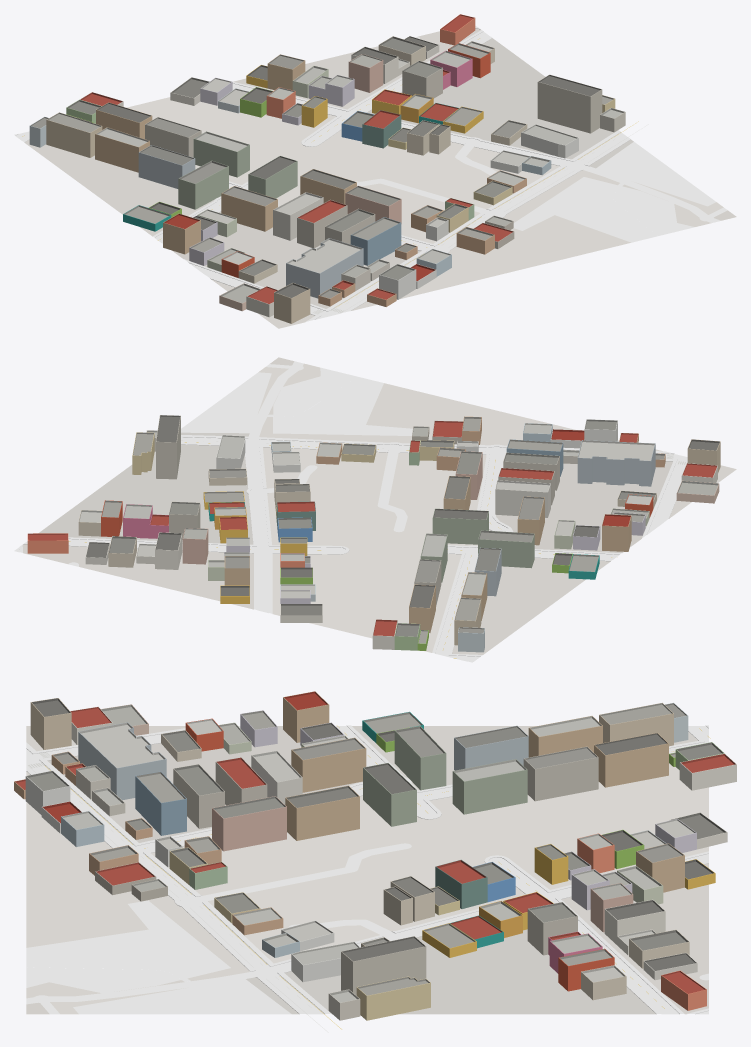
3 views of the same model, one above another, from view 1: azimuth 30°, elevation 25°; view 2: azimuth 150°, elevation 25°; view 3: azimuth 270°, elevation 25° (orthographic). The views are drawn at different scales.
Parts seen in each view (by area): view 1: walls, ground, roofs, grass, asphalt, sidewalk; view 2: ground, roofs, walls, asphalt, grass, sidewalk; view 3: walls, ground, roofs, grass, asphalt, sidewalk, markings, concrete.
Boxes of the visible parts, left/top/right/bottom form: walls: left=29, top=18, right=625, bottom=323; ground: left=25, top=28, right=736, bottom=328; roofs: left=30, top=14, right=624, bottom=304; grass: left=513, top=142, right=715, bottom=242; asphalt: left=15, top=26, right=727, bottom=319; sidewalk: left=14, top=26, right=630, bottom=321; ground: left=22, top=357, right=736, bottom=654; roofs: left=27, top=415, right=720, bottom=643; walls: left=27, top=416, right=720, bottom=652; asphalt: left=14, top=361, right=687, bottom=661; grass: left=181, top=367, right=412, bottom=435; sidewalk: left=19, top=435, right=681, bottom=662; walls: left=14, top=697, right=736, bottom=1020; ground: left=26, top=726, right=708, bottom=1014; roofs: left=14, top=691, right=736, bottom=1002; grass: left=26, top=900, right=291, bottom=1014; asphalt: left=26, top=726, right=708, bottom=1014; sidewalk: left=26, top=725, right=708, bottom=1014; markings: left=28, top=726, right=710, bottom=1032; concrete: left=26, top=964, right=190, bottom=981.
Size of what is drawn, in the model's own units: 276 by 19.22 by 265.
